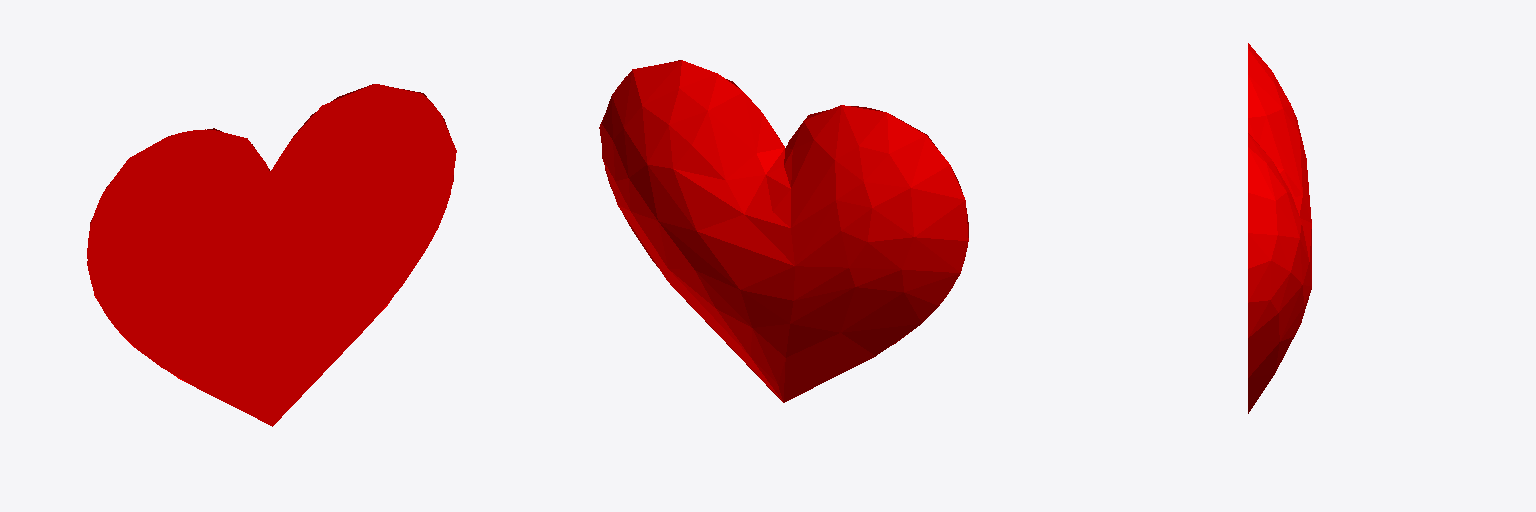
File: Heart.obj
3 views of the same model, side by side, from view 1: azimuth 30°, elevation 25°; view 2: azimuth 150°, elevation 25°; view 3: azimuth 270°, elevation 25° (orthographic).
Parts seen in each view (by area): view 1: Heart; view 2: Heart; view 3: Heart.
Boxes of the visible parts, x1,y1,x2,y2 form: Heart: [87, 84, 456, 426]; Heart: [599, 60, 968, 402]; Heart: [1248, 43, 1311, 413].
Bounding box in the file's own units: 0.6975 × 0.5739 × 0.106.